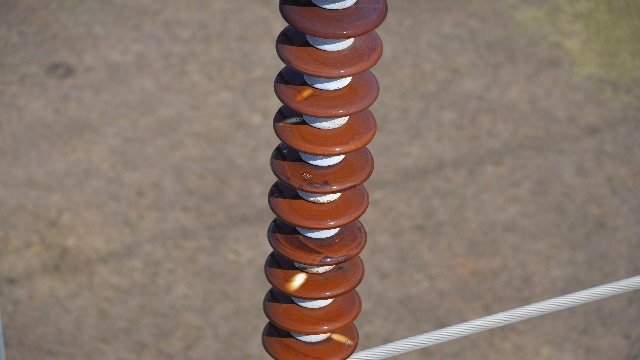insulator_unspecified: (261, 0, 391, 359)
pollution_flashover_local: (283, 270, 310, 292), (330, 331, 355, 347), (277, 115, 304, 127), (297, 86, 315, 102)
